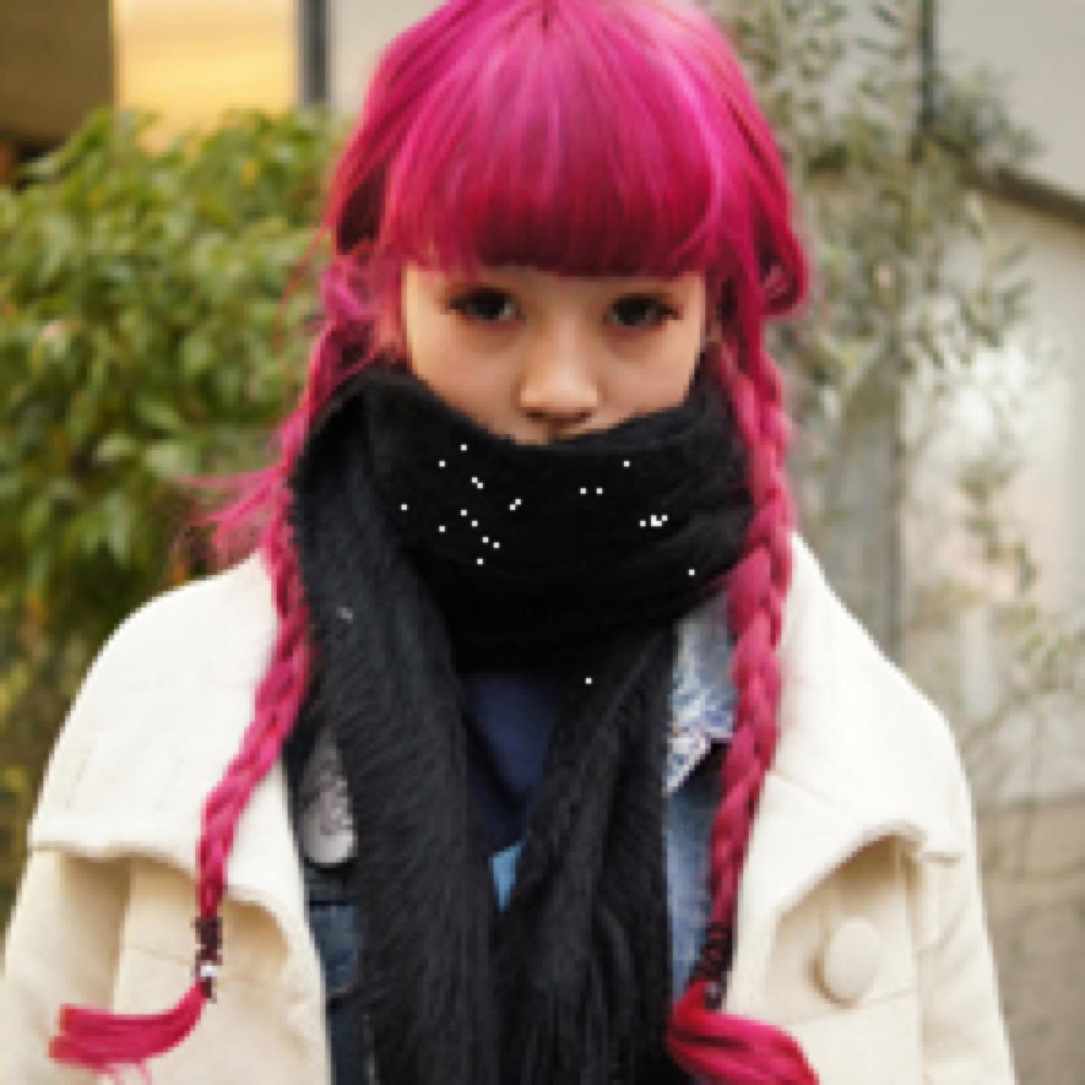WRONG: (387, 218, 703, 520)
